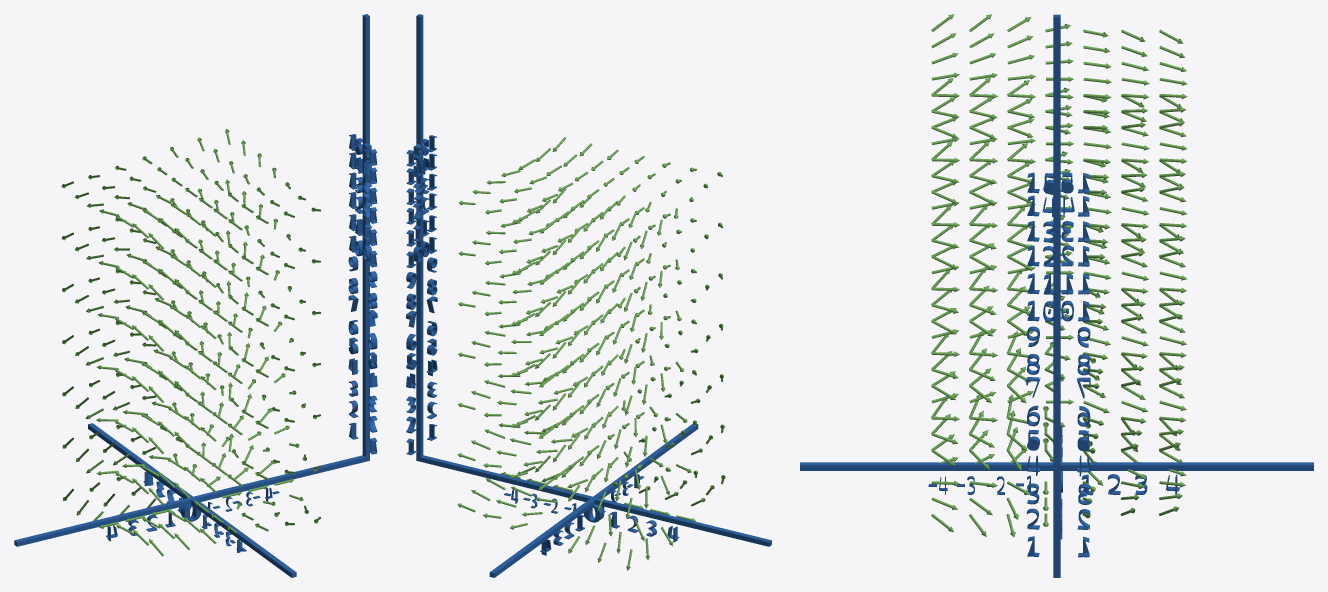
The model's file is campo2.0.fbx.
3 renders of one model, left to right at view 1: azimuth 30°, elevation 25°; view 2: azimuth 150°, elevation 25°; view 3: azimuth 270°, elevation 25°, orthographic. The views are drawn at different scales.
Parts seen in each view (by area): view 1: campo_vectorial_flechas:campo_vectorial, pasted__pCube1 (×2), pCube1; view 2: campo_vectorial_flechas:campo_vectorial, pasted__pCube1 (×2), pCube1; view 3: campo_vectorial_flechas:campo_vectorial, pasted__pCube1 (×2).
Boxes of the visible parts, left/top/right/bottom form: campo_vectorial_flechas:campo_vectorial: left=61, top=128, right=320, bottom=556; pasted__pCube1 (×2): left=88, top=14, right=369, bottom=577; pCube1: left=14, top=455, right=369, bottom=546; campo_vectorial_flechas:campo_vectorial: left=457, top=137, right=725, bottom=570; pasted__pCube1 (×2): left=416, top=14, right=698, bottom=577; pCube1: left=416, top=455, right=771, bottom=546; campo_vectorial_flechas:campo_vectorial: left=931, top=14, right=1187, bottom=537; pasted__pCube1 (×2): left=800, top=14, right=1313, bottom=572.
Bounding box in the file's own units: 18.03 × 22.61 × 18.03.
